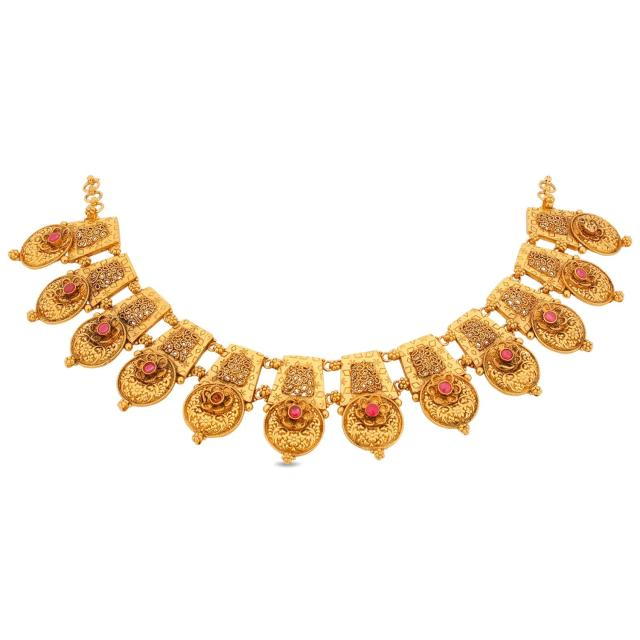missing gem: (211, 392, 223, 403), (585, 222, 596, 231)
